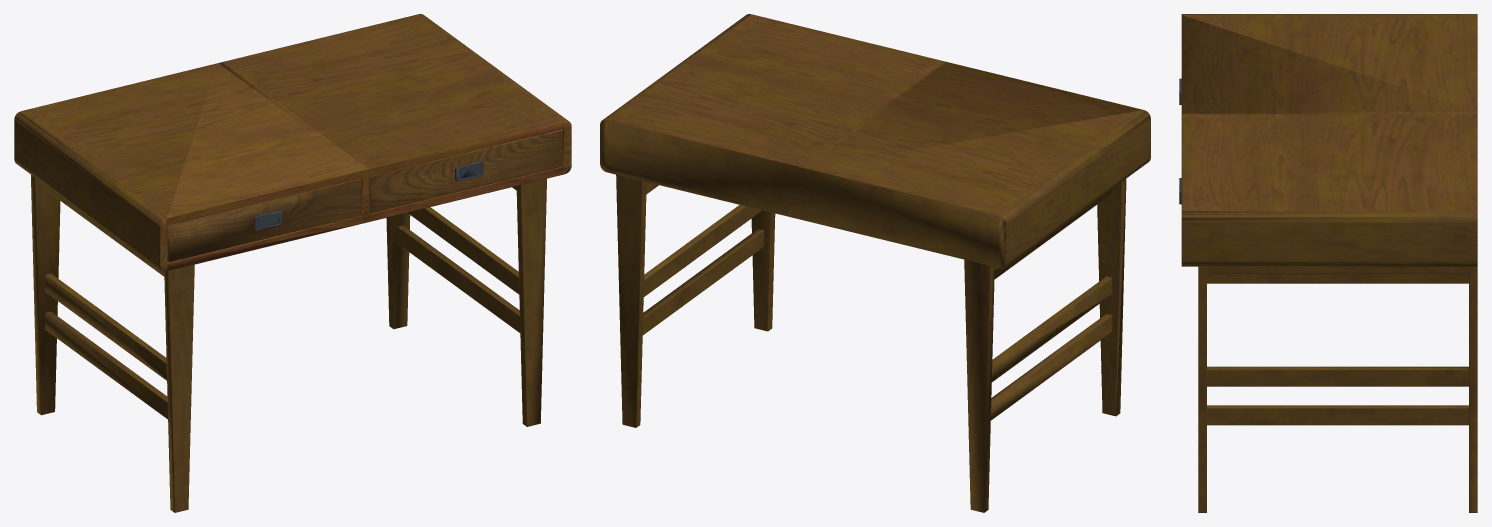
3 views of the same model, side by side, from view 1: azimuth 30°, elevation 25°; view 2: azimuth 150°, elevation 25°; view 3: azimuth 270°, elevation 25° (orthographic). The views are drawn at different scales.
Parts seen in each view (by area): view 1: RootNode; view 2: RootNode; view 3: RootNode.
Boxes of the visible parts, bbox=[...] form: RootNode: bbox=[14, 14, 571, 512]; RootNode: bbox=[600, 14, 1150, 512]; RootNode: bbox=[1179, 14, 1477, 512].
Size of the model in its own units: 1.07 by 0.754 by 0.6601.
1 material, 1 textured.
